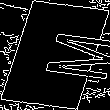M_W: (8, 27, 102, 83)
